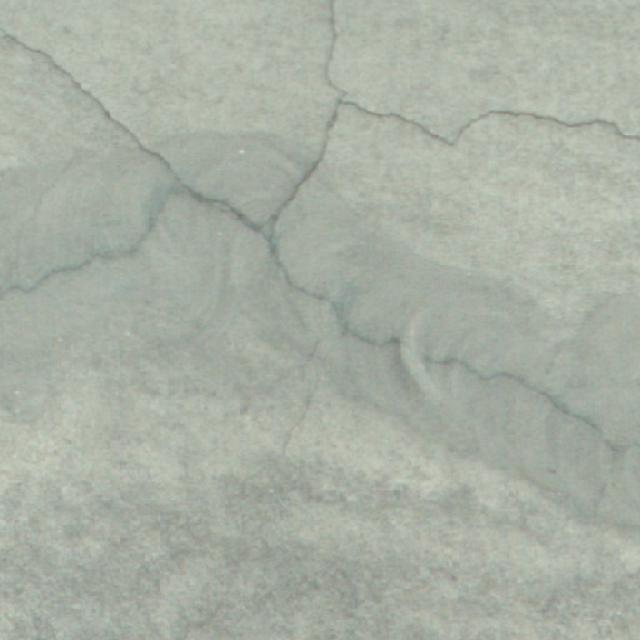Network: (0, 1, 634, 460)
